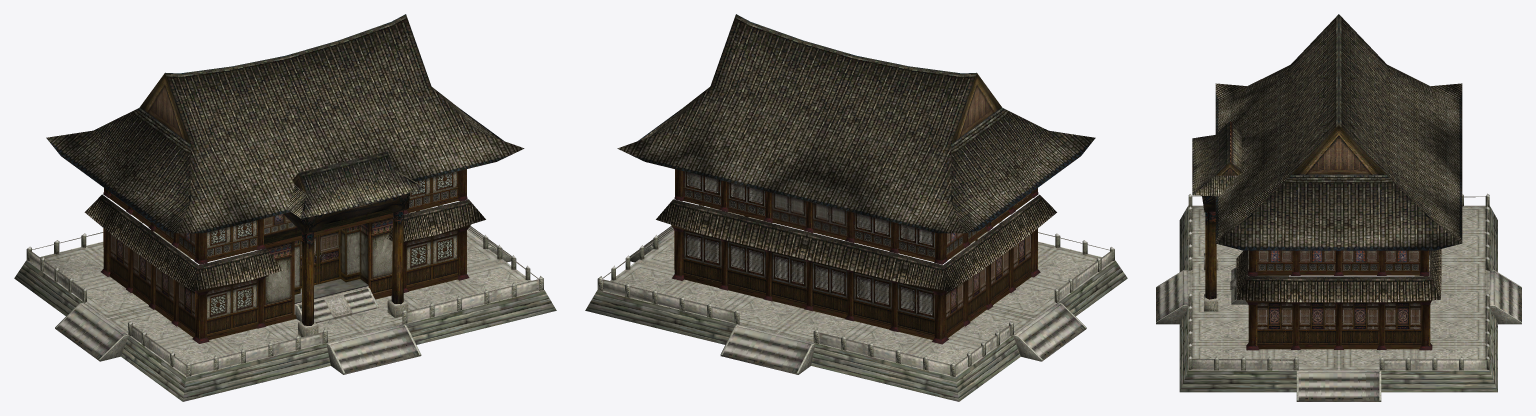
Rendered from b1-010-bank_lod_01.glb.
The picture shows the model from 3 angles, left to right: view 1: azimuth 30°, elevation 25°; view 2: azimuth 150°, elevation 25°; view 3: azimuth 270°, elevation 25°; orthographic projection. The views are drawn at different scales.
Visible parts, largest first — view 1: b1-010-bank-01, b1-010-bank-03, b1-010-bank-02, b1-010-bank-04; view 2: b1-010-bank-01, b1-010-bank-03, b1-010-bank-02, b1-010-bank-04; view 3: b1-010-bank-01, b1-010-bank-03, b1-010-bank-02, b1-010-bank-04.
Part boxes in pixels (left/top/right/bottom): b1-010-bank-01: left=46, top=14, right=524, bottom=343; b1-010-bank-03: left=14, top=151, right=556, bottom=401; b1-010-bank-02: left=26, top=171, right=543, bottom=376; b1-010-bank-04: left=84, top=194, right=485, bottom=321; b1-010-bank-01: left=617, top=14, right=1095, bottom=344; b1-010-bank-03: left=585, top=195, right=1127, bottom=401; b1-010-bank-02: left=597, top=171, right=1114, bottom=377; b1-010-bank-04: left=656, top=194, right=1056, bottom=291; b1-010-bank-01: left=1215, top=14, right=1462, bottom=350; b1-010-bank-03: left=1156, top=121, right=1521, bottom=401; b1-010-bank-02: left=1188, top=193, right=1489, bottom=370; b1-010-bank-04: left=1236, top=249, right=1441, bottom=302.
Bounding box in the file's own units: 24.99 × 14.43 × 20.19.
Materials: 4 (4 with a texture image).
